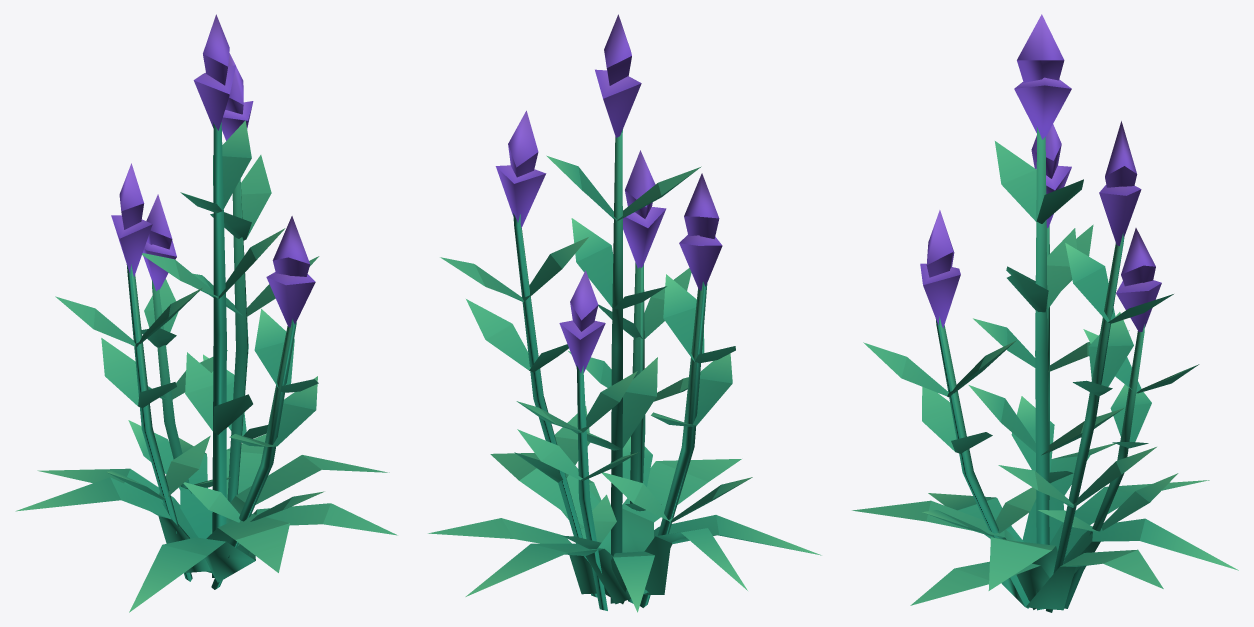
Rendered from LavenderSprout02.glb.
The picture shows the model from 3 angles, left to right: view 1: azimuth 30°, elevation 25°; view 2: azimuth 150°, elevation 25°; view 3: azimuth 270°, elevation 25°; orthographic projection. The views are drawn at different scales.
Visible parts, largest first — view 1: LavenderSprout02; view 2: LavenderSprout02; view 3: LavenderSprout02.
Boxes of the visible parts, box(x1,y1,x2,y2) form: LavenderSprout02: box(15, 14, 397, 612); LavenderSprout02: box(428, 14, 821, 612); LavenderSprout02: box(852, 14, 1238, 612).
Bounding box in the file's own units: 0.7925 × 1.38 × 0.814.
Materials: 1 (1 with a texture image).
